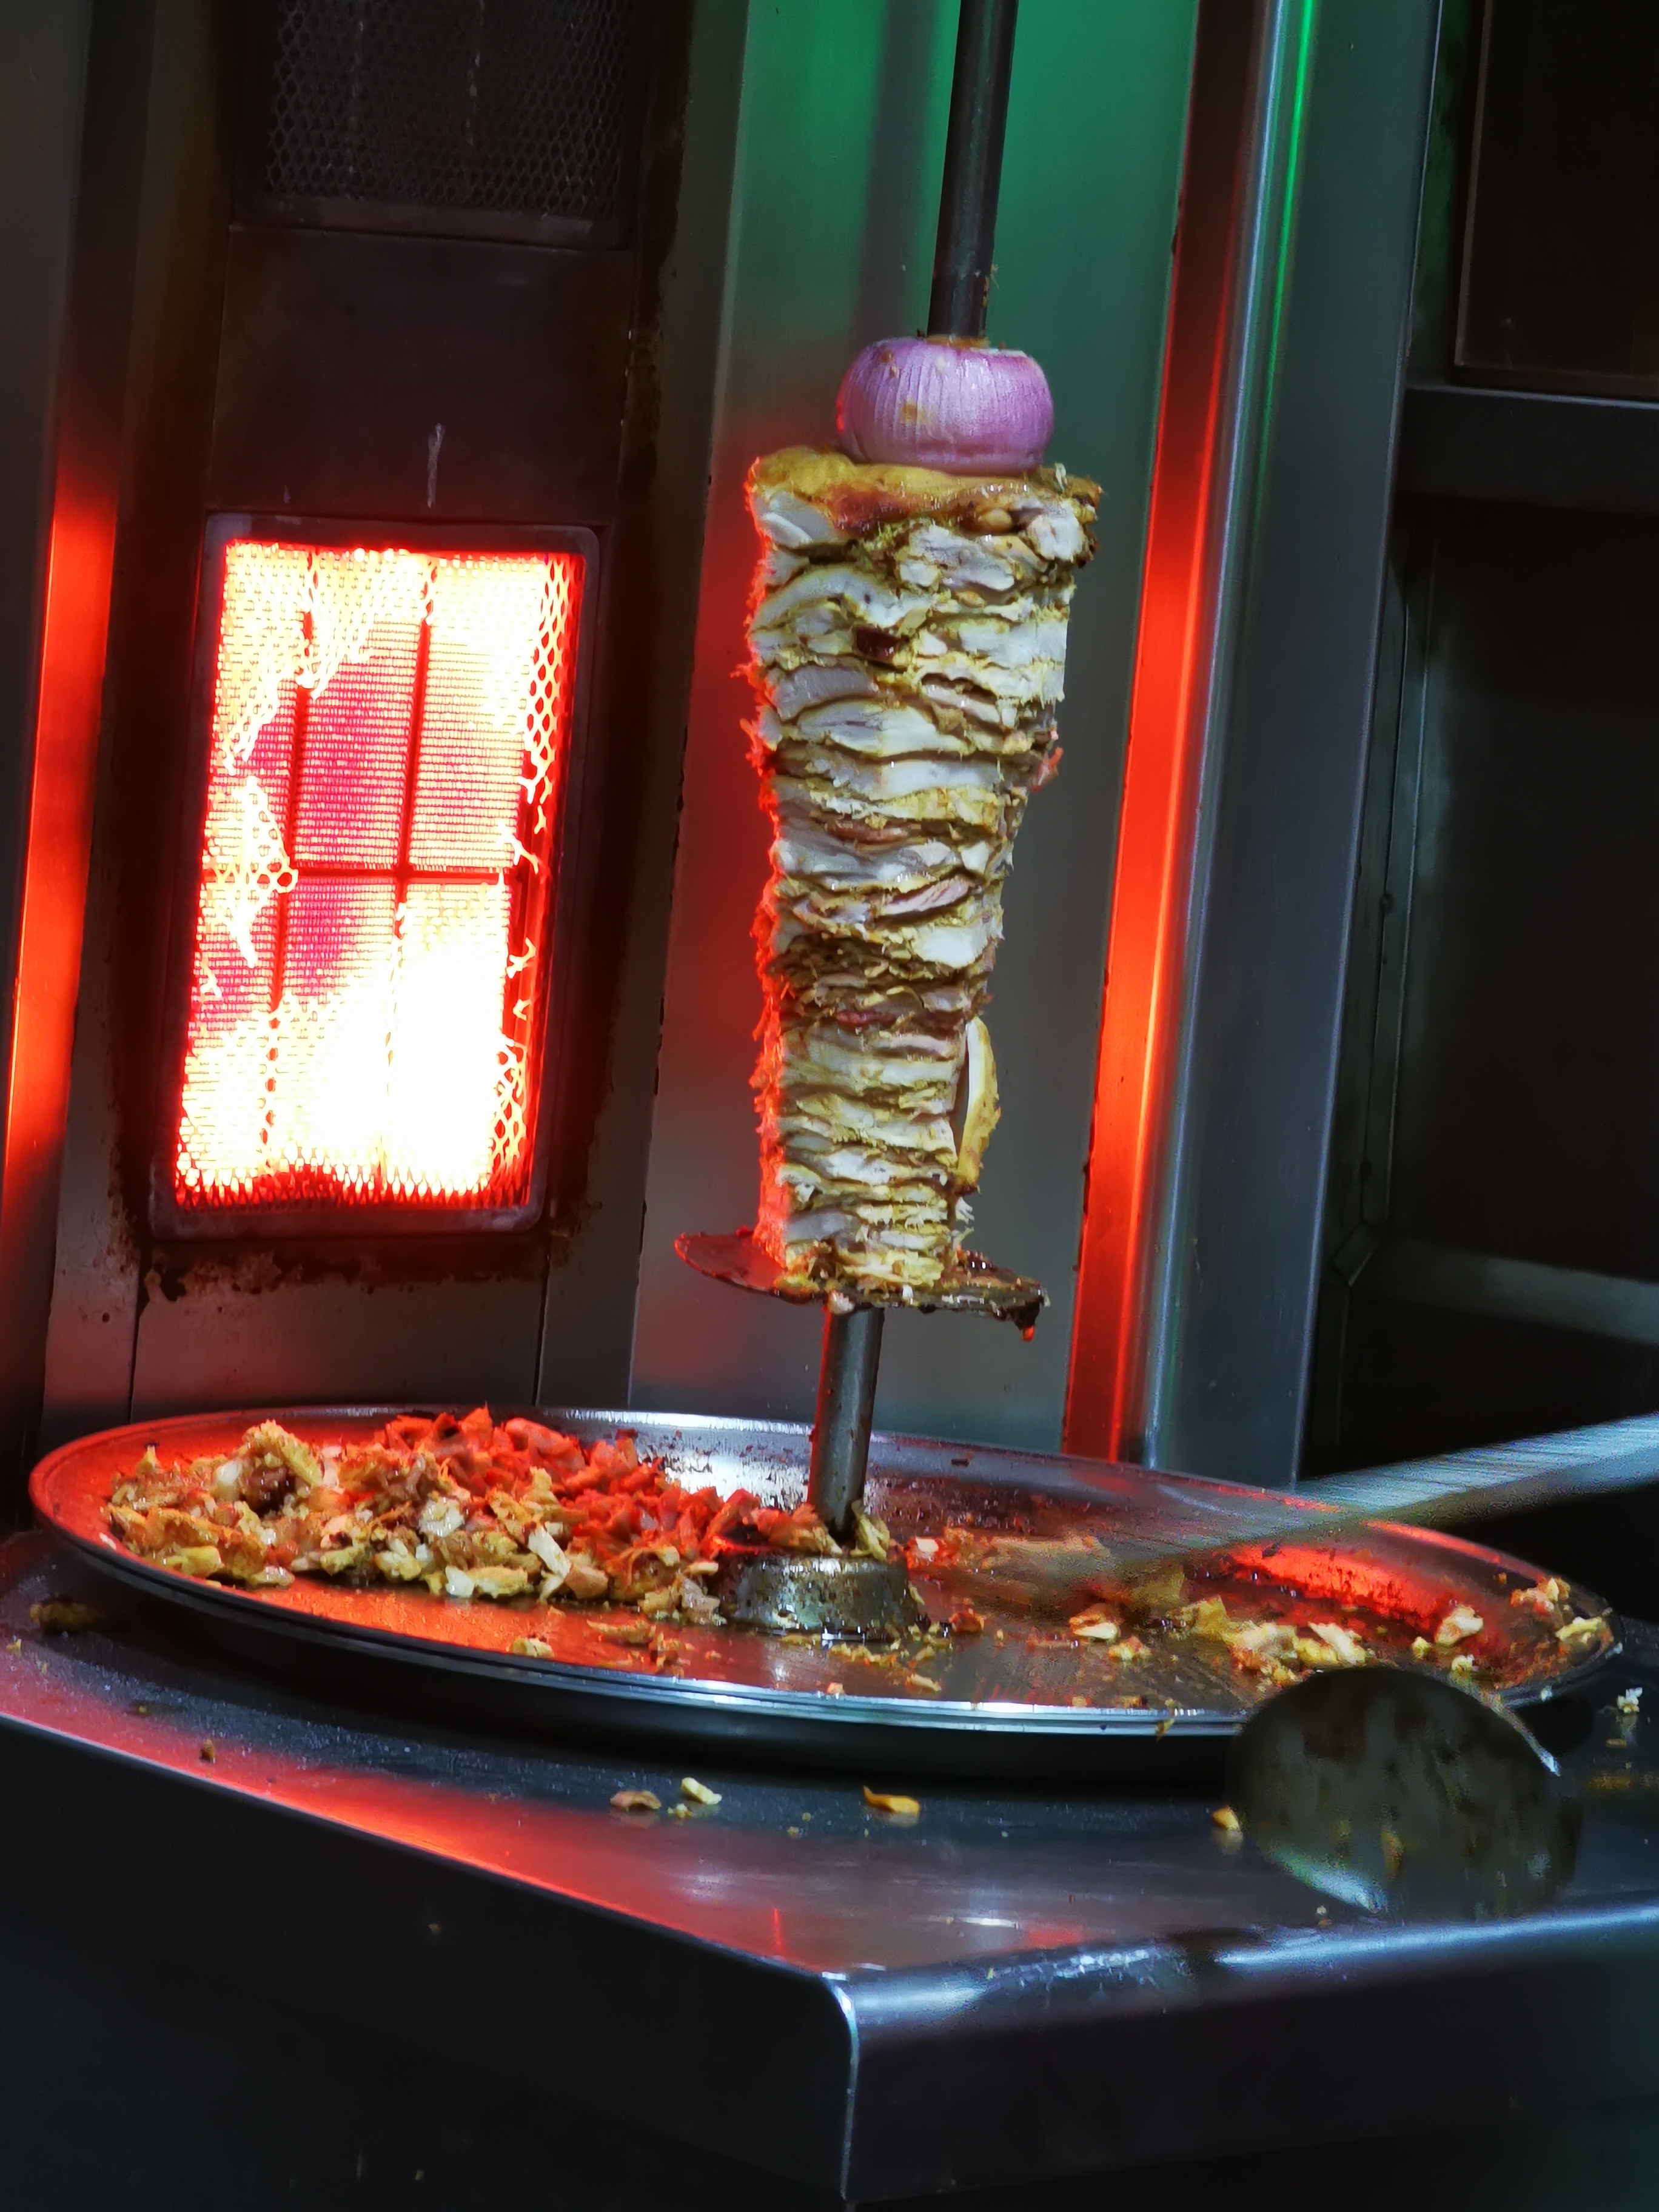food: (89, 317, 1110, 1609)
